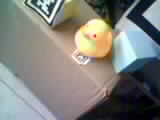duck: (67, 15, 116, 55)
